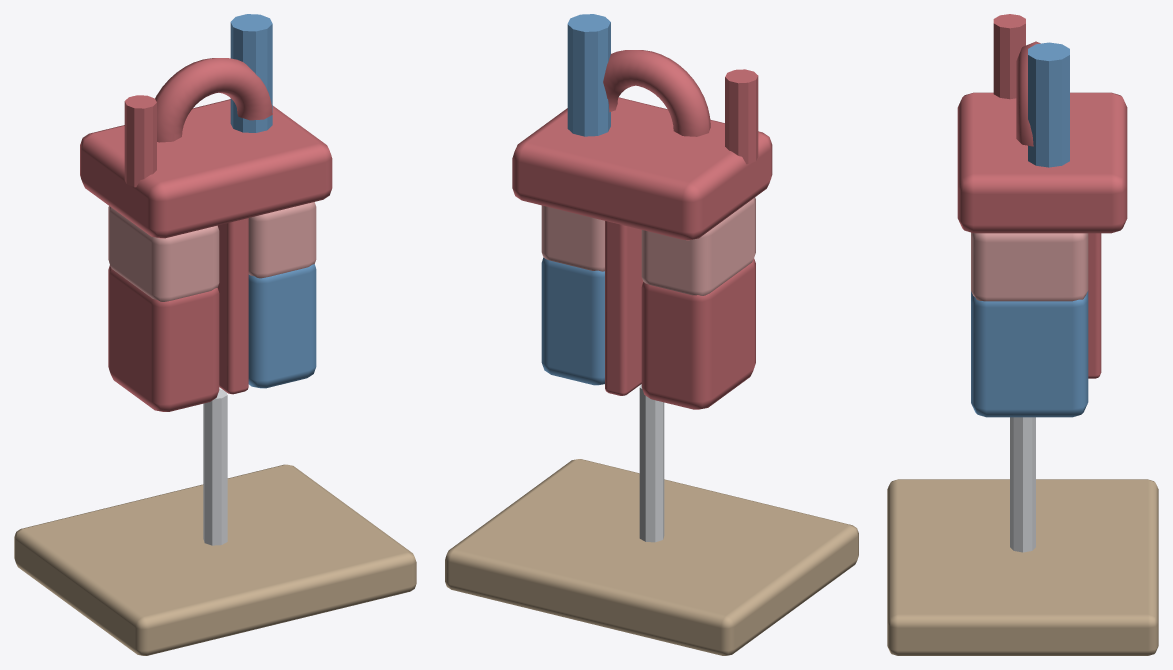
Rendered from human-anatomy-and-education-kit-heart-sectioned-a3e0c40b__38953.glb.
3 views of the same model, side by side, from view 1: azimuth 30°, elevation 25°; view 2: azimuth 150°, elevation 25°; view 3: azimuth 270°, elevation 25° (orthographic). The views are drawn at different scales.
Visible parts, largest first — view 1: heart-sectioned; view 2: heart-sectioned; view 3: heart-sectioned.
Boxes of the visible parts, x1,y1,x2,y2 form: heart-sectioned: (14,14,416,655); heart-sectioned: (445,14,858,655); heart-sectioned: (887,14,1158,655).
Bounding box in the file's own units: 0.26 × 0.475 × 0.208.
